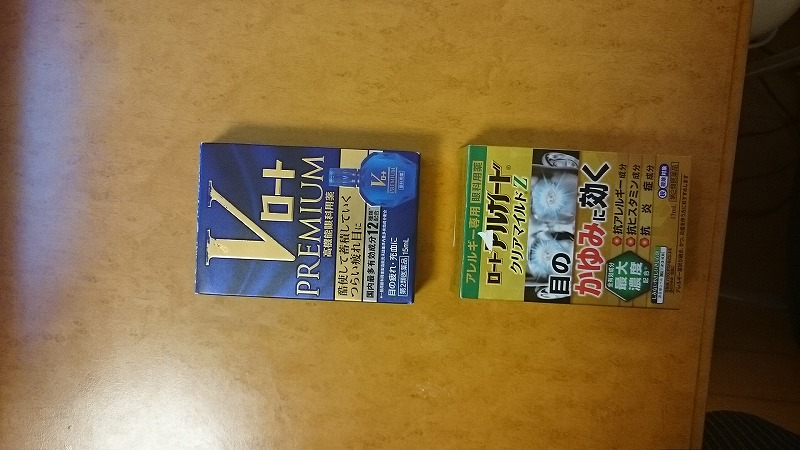C: (451, 138, 687, 316)
D: (188, 133, 425, 316)
